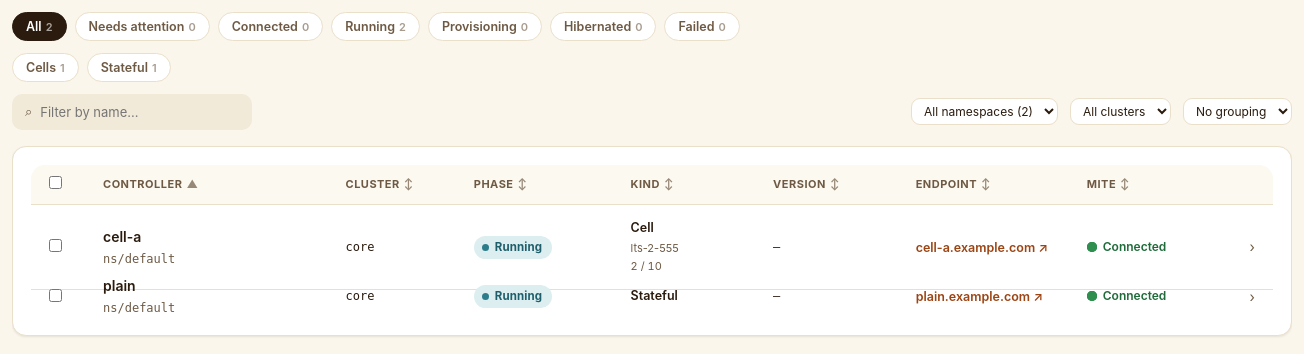
BroodControllerPicker › Kind column and kind filter › lists every kind again once the chip toggles off
Click the button "Cells 1": {"x": 45, "y": 68} [12, 53, 79, 82]
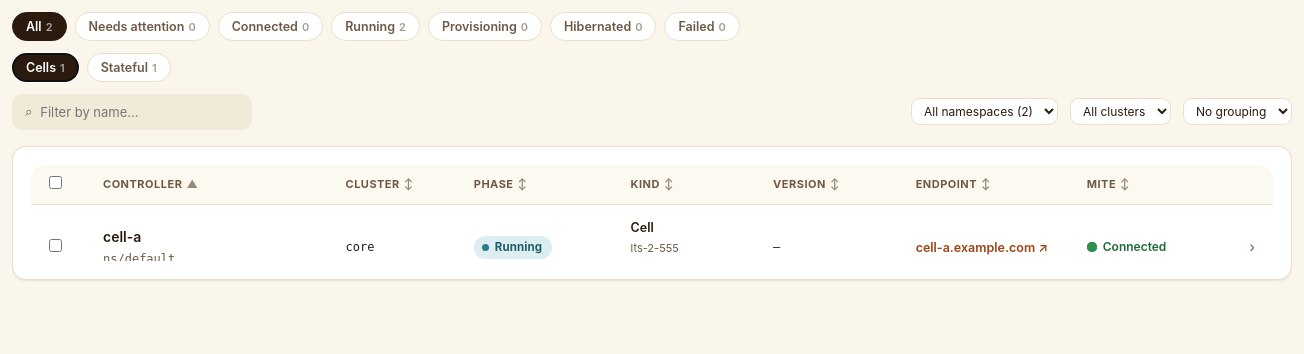
Click the button "Cells 1": {"x": 45, "y": 68} [12, 53, 79, 82]
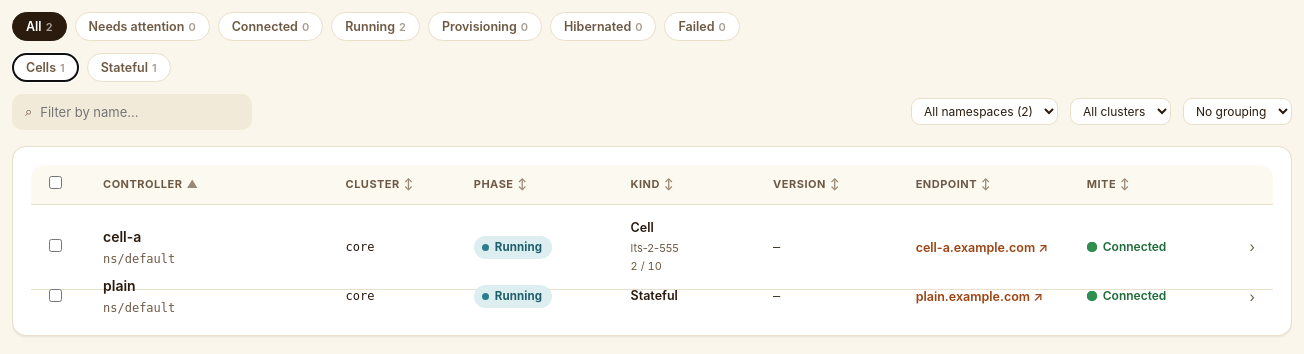
Check: the button with aria-label "Controller plain (default/core)" is shown, box [49, 277, 1255, 315]
